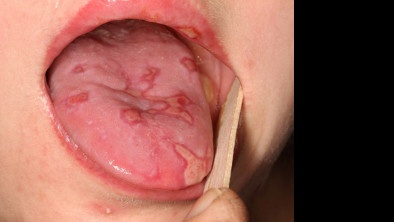SJS-TEN: (12, 0, 266, 222)
